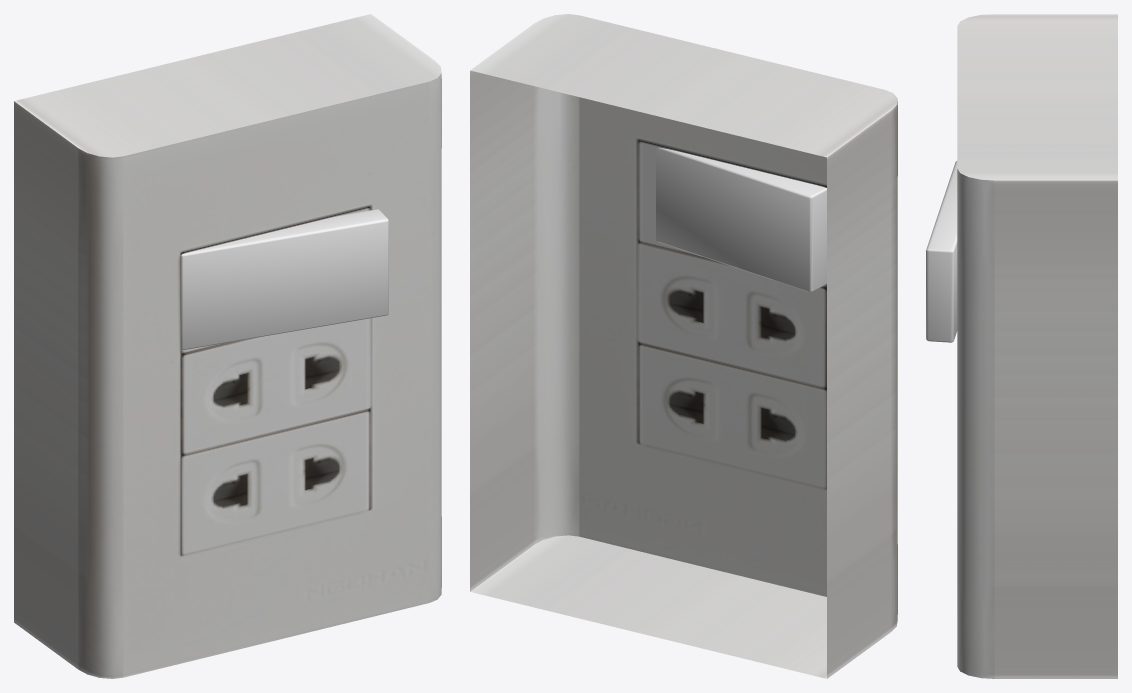
The model's file is EletricOutlet.fbx.
The picture shows the model from 3 angles, left to right: view 1: azimuth 30°, elevation 25°; view 2: azimuth 150°, elevation 25°; view 3: azimuth 270°, elevation 25°; orthographic projection. The views are drawn at different scales.
Parts seen in each view (by area): view 1: Electric Outlet, LightButton; view 2: Electric Outlet, LightButton; view 3: Electric Outlet, LightButton.
Boxes of the visible parts, <box> form: Electric Outlet: <box>14,14,441,678</box>; LightButton: <box>181,209,388,350</box>; Electric Outlet: <box>470,14,897,678</box>; LightButton: <box>656,147,826,292</box>; Electric Outlet: <box>957,14,1117,678</box>; LightButton: <box>926,161,957,342</box>.
Bounding box in the file's own units: 8.6 × 12 × 4.18.
